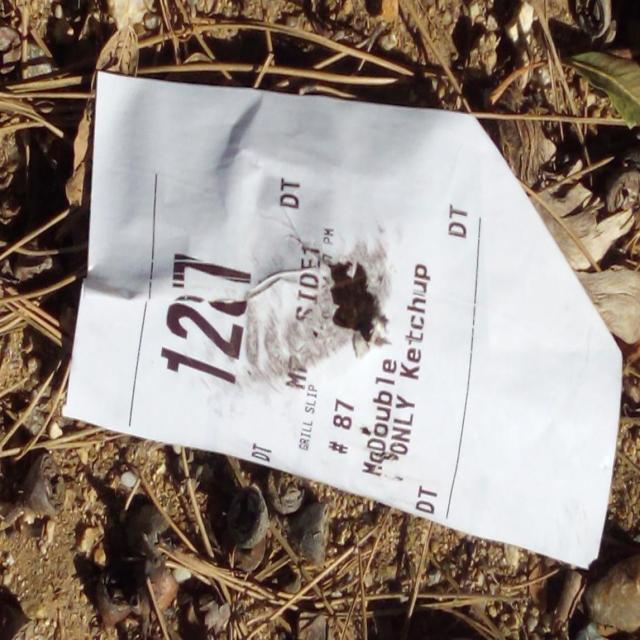litter: (61, 73, 621, 567)
